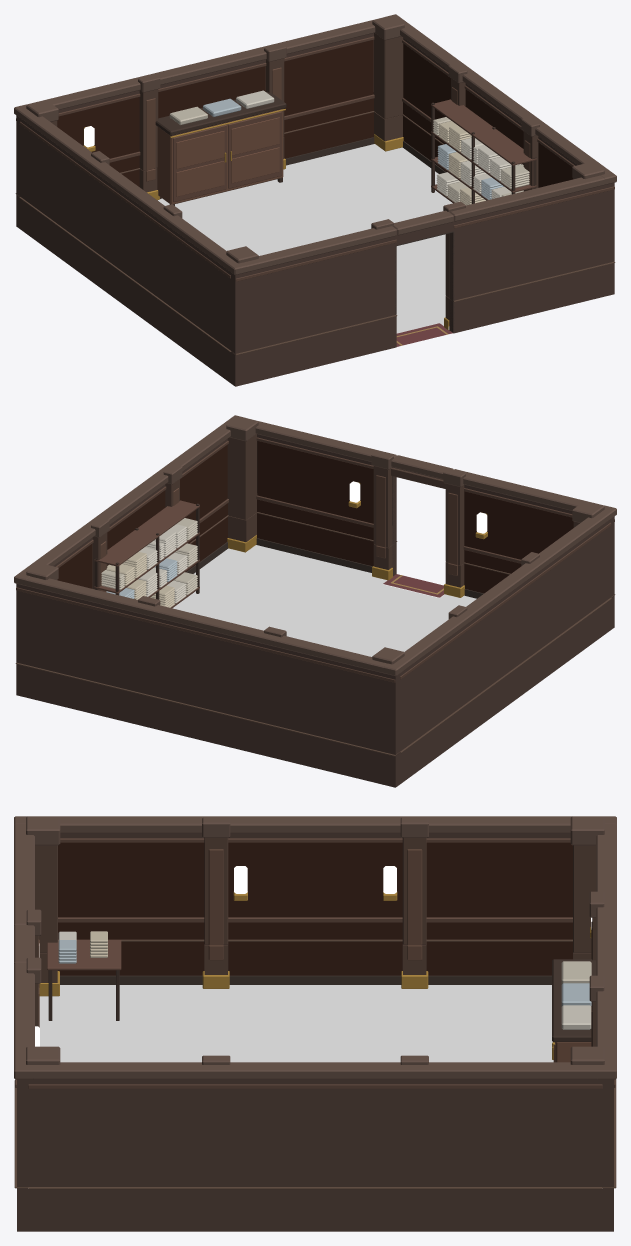
The model's file is linenStore2.glb.
3 renders of one model, top to bottom at view 1: azimuth 30°, elevation 25°; view 2: azimuth 150°, elevation 25°; view 3: azimuth 270°, elevation 25°, orthographic. The views are drawn at different scales.
Visible parts, largest first — view 1: static, W_north_0_up, floor, W_west_0_up, W_south_0_up, W_south_1_up, W_east_0_up; view 2: W_north_0_up, static, W_west_0_up, floor, W_south_1_up, W_south_0_up, W_east_0_up; view 3: W_east_0_up, W_west_0_up, static, floor, W_north_0_up, W_south_0_up, W_south_1_up.
Part boxes in pixels (box(x1,y1,x2,y2)): static: box(15, 90, 615, 386); W_north_0_up: box(14, 15, 404, 196); floor: box(158, 144, 452, 346); W_west_0_up: box(14, 104, 246, 350); W_south_0_up: box(226, 210, 453, 353); W_south_1_up: box(443, 162, 616, 300); W_east_0_up: box(385, 14, 616, 191); W_north_0_up: box(14, 563, 404, 754); static: box(15, 493, 615, 787); W_west_0_up: box(384, 505, 616, 751); floor: box(172, 545, 476, 656); W_south_1_up: box(226, 416, 396, 547); W_south_0_up: box(391, 455, 616, 597); W_east_0_up: box(14, 415, 245, 591); W_east_0_up: box(14, 1055, 616, 1186); W_west_0_up: box(14, 816, 616, 945); static: box(14, 931, 616, 1231); floor: box(39, 985, 553, 1062); W_north_0_up: box(570, 816, 616, 1186); W_south_0_up: box(14, 816, 60, 987); W_south_1_up: box(14, 957, 60, 1186).
Size of the model in its own units: 8.08 by 2.48 by 8.08.
